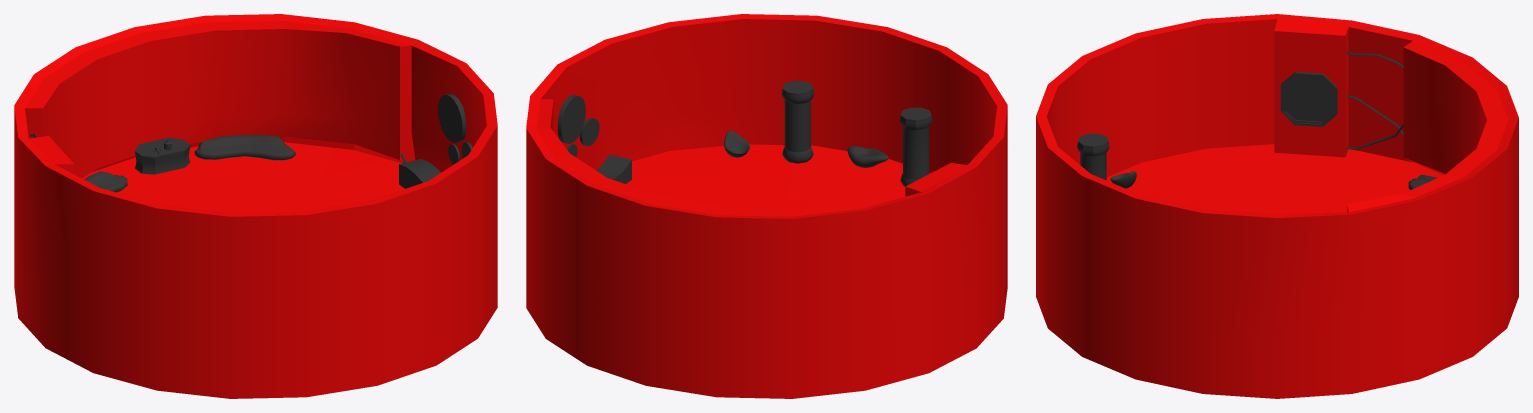
The model's file is big_yurta 1.fbx.
3 views of the same model, side by side, from view 1: azimuth 30°, elevation 25°; view 2: azimuth 150°, elevation 25°; view 3: azimuth 270°, elevation 25° (orthographic).
Parts seen in each view (by area): view 1: pCylinder1, pCylinder9, pCube6, pCylinder3, pCube7, pCylinder8; view 2: pCylinder1, pCylinder7, pCylinder6, pCylinder3, pCube7, pSphere1, pSphere3, pCylinder4; view 3: pCylinder1, pCube3, pCylinder6.
Boxes of the visible parts, <box> form: pCylinder1: <box>14,14,497,398</box>; pCylinder9: <box>194,135,295,160</box>; pCube6: <box>135,137,190,174</box>; pCylinder3: <box>438,93,466,142</box>; pCube7: <box>399,159,440,188</box>; pCylinder8: <box>84,171,127,192</box>; pCylinder1: <box>526,14,1007,398</box>; pCylinder7: <box>781,81,814,163</box>; pCylinder6: <box>900,107,932,186</box>; pCylinder3: <box>557,95,585,143</box>; pCube7: <box>596,154,631,183</box>; pSphere1: <box>847,146,888,167</box>; pSphere3: <box>724,130,749,157</box>; pCylinder4: <box>579,117,599,146</box>; pCylinder1: <box>1036,14,1518,398</box>; pCube3: <box>1280,72,1337,126</box>; pCylinder6: <box>1077,133,1109,180</box>.
Size of the model in its own units: 2090 by 864 by 2090.
